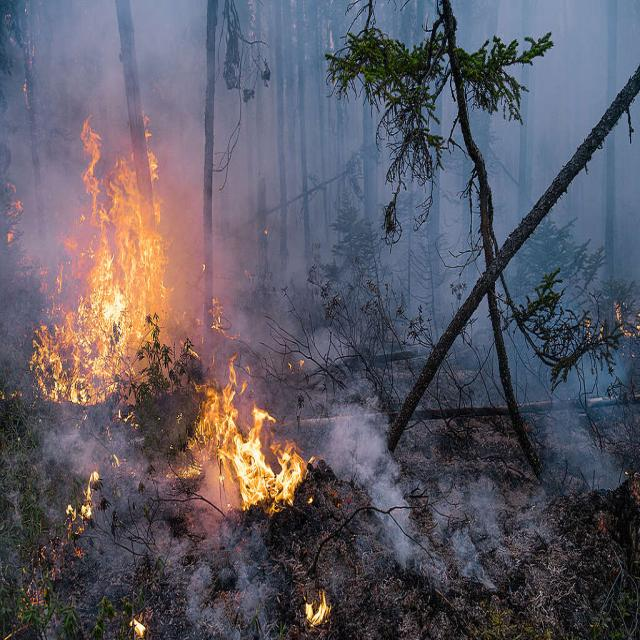Fire: (24, 105, 330, 538), (298, 582, 336, 631)
